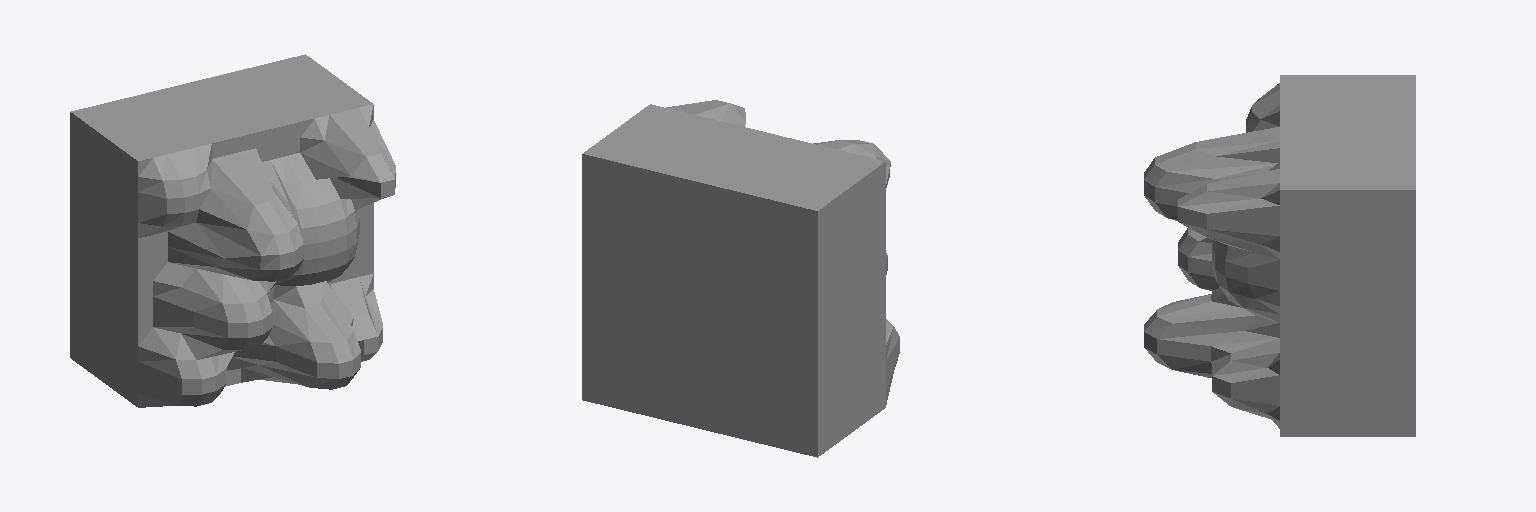
Rendered from rock2.obj.
The picture shows the model from 3 angles: view 1: azimuth 30°, elevation 25°; view 2: azimuth 150°, elevation 25°; view 3: azimuth 270°, elevation 25°; orthographic projection.
Visible parts, largest first — view 1: Cube; view 2: Cube; view 3: Cube.
Part boxes in pixels (left/top/right/bottom): Cube: left=70, top=54, right=395, bottom=407; Cube: left=582, top=100, right=899, bottom=457; Cube: left=1144, top=75, right=1415, bottom=436.
Size of the model in its own units: 2 by 2 by 2.